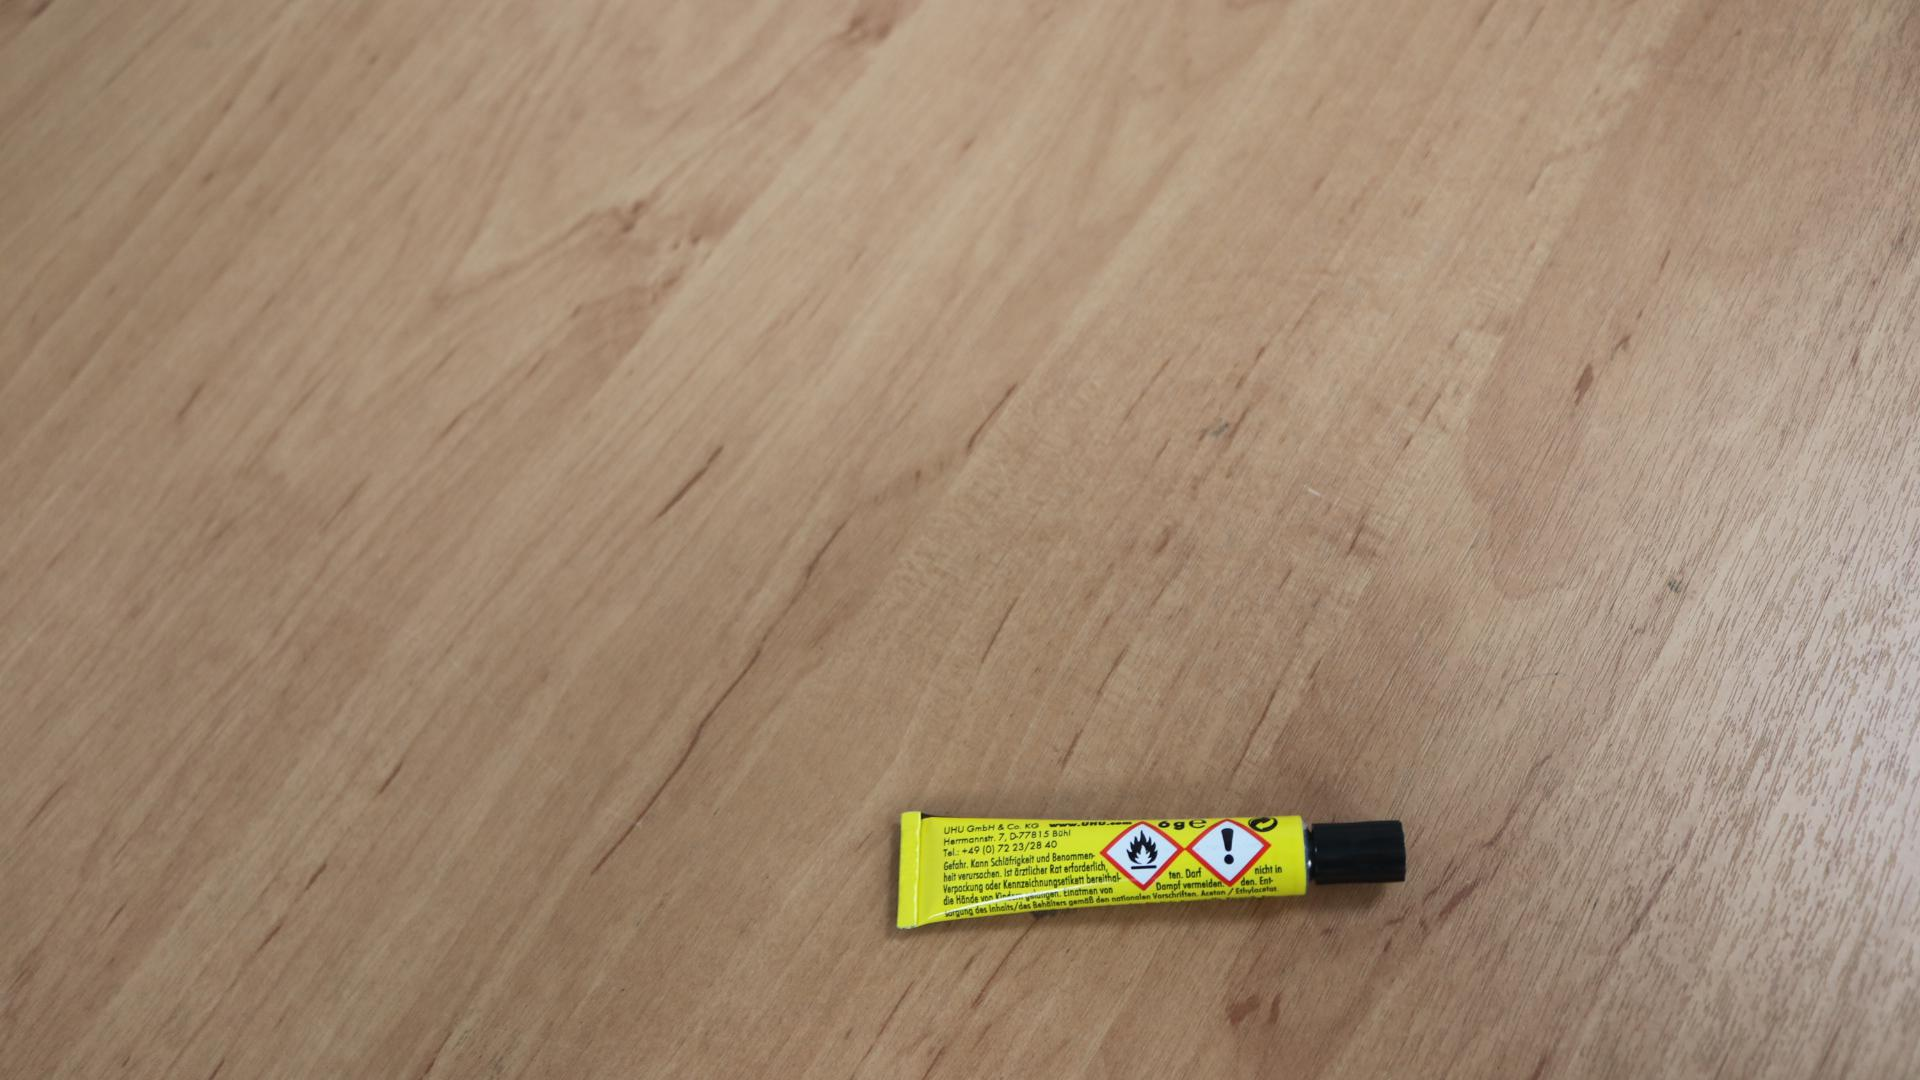Head: (1348, 844, 1362, 858)
Tail: (903, 861, 916, 879)
Tube: (896, 809, 1408, 930)
